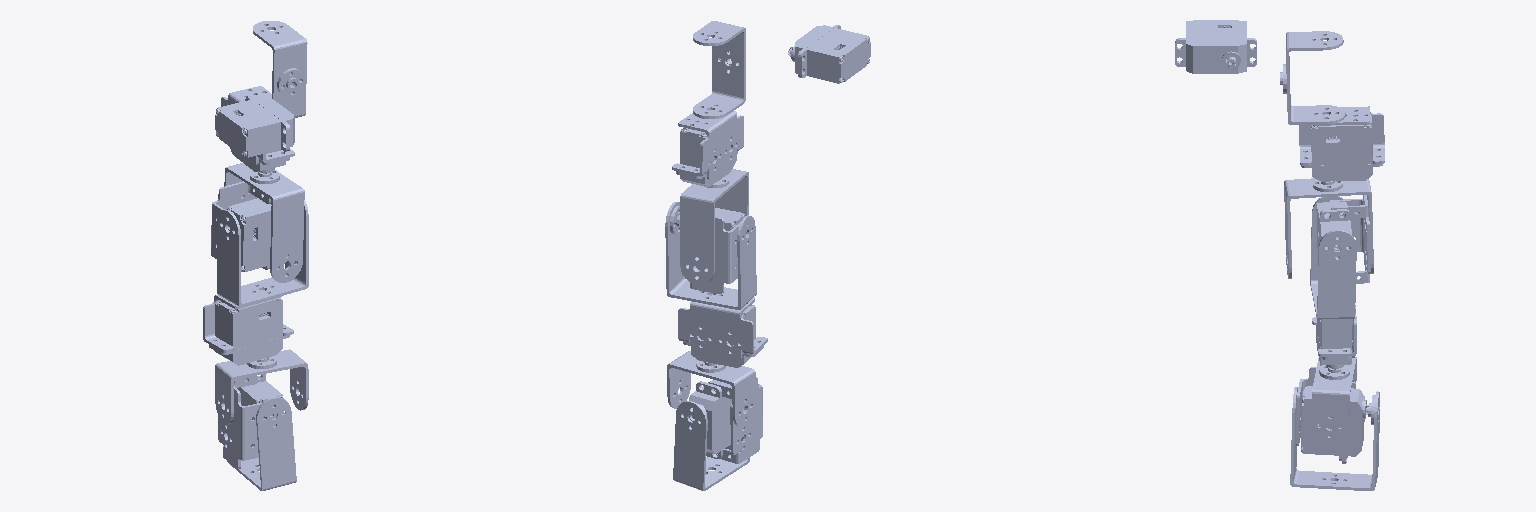
robot.urdf — arm_assembly_4:
<?xml version="1.0" encoding="utf-8"?>
<!-- This URDF was automatically created by SolidWorks to URDF Exporter! Originally created by [author] ([email redacted]) 
     Commit Version: 1.6.0-1-g15f4949  Build Version: 1.6.7594.29634
     For more information, please see http://wiki.ros.org/sw_urdf_exporter -->
<robot
  name="arm_assembly_4">
  <link
    name="base_link">
    <inertial>
      <origin
        xyz="0.018792 0.02001 -0.0099989"
        rpy="0 0 0" />
      <mass
        value="0.031905" />
      <inertia
        ixx="5.4828E-06"
        ixy="-8.0892E-08"
        ixz="-9.1152E-11"
        iyy="5.2647E-06"
        iyz="-2.6656E-10"
        izz="8.6771E-06" />
    </inertial>
    <visual>
      <origin
        xyz="0 0 0"
        rpy="0 0 0" />
      <geometry>
        <mesh
          filename="package://arm_assembly_4/meshes/base_link.STL" />
      </geometry>
      <material
        name="">
        <color
          rgba="0.79216 0.81961 0.93333 1" />
      </material>
    </visual>
    <collision>
      <origin
        xyz="0 0 0"
        rpy="0 0 0" />
      <geometry>
        <mesh
          filename="package://arm_assembly_4/meshes/base_link.STL" />
      </geometry>
    </collision>
  </link>
  <link
    name="link1">
    <inertial>
      <origin
        xyz="0.0085665 -0.0062685 -0.027002"
        rpy="0 0 0" />
      <mass
        value="0.04101" />
      <inertia
        ixx="9.4769E-06"
        ixy="3.6442E-07"
        ixz="5.2471E-07"
        iyy="9.1716E-06"
        iyz="-5.3417E-07"
        izz="1.2798E-05" />
    </inertial>
    <visual>
      <origin
        xyz="0 0 0"
        rpy="0 0 0" />
      <geometry>
        <mesh
          filename="package://arm_assembly_4/meshes/link1.STL" />
      </geometry>
      <material
        name="">
        <color
          rgba="0.79216 0.81961 0.93333 1" />
      </material>
    </visual>
    <collision>
      <origin
        xyz="0 0 0"
        rpy="0 0 0" />
      <geometry>
        <mesh
          filename="package://arm_assembly_4/meshes/link1.STL" />
      </geometry>
    </collision>
  </link>
  <joint
    name="joint1"
    type="revolute">
    <origin
      xyz="0.043 0.029901 -0.0098444"
      rpy="3.1416 1.5708 0" />
    <parent
      link="base_link" />
    <child
      link="link1" />
    <axis
      xyz="0 0 1" />
    <limit
      lower="-0.785398"
      upper="3.316126"
      effort="0"
      velocity="0" />
  </joint>
  <link
    name="link2">
    <inertial>
      <origin
        xyz="-0.0035048 0.043261 0.034631"
        rpy="0 0 0" />
      <mass
        value="0.044197" />
      <inertia
        ixx="3.3375E-05"
        ixy="1.0809E-06"
        ixz="5.9712E-07"
        iyy="1.2427E-05"
        iyz="-7.3006E-06"
        izz="2.4892E-05" />
    </inertial>
    <visual>
      <origin
        xyz="0 0 0"
        rpy="0 0 0" />
      <geometry>
        <mesh
          filename="package://arm_assembly_4/meshes/link2.STL" />
      </geometry>
      <material
        name="">
        <color
          rgba="0.79216 0.81961 0.93333 1" />
      </material>
    </visual>
    <collision>
      <origin
        xyz="0 0 0"
        rpy="0 0 0" />
      <geometry>
        <mesh
          filename="package://arm_assembly_4/meshes/link2.STL" />
      </geometry>
    </collision>
  </link>
  <joint
    name="joint2"
    type="revolute">
    <origin
      xyz="-0.0011908 -0.032981 -0.027656"
      rpy="1.5947 1.5708 0" />
    <parent
      link="link1" />
    <child
      link="link2" />
    <axis
      xyz="0 0 -1" />
    <limit
      lower="-3.926991"
      upper="0.785398"
      effort="0"
      velocity="0" />
  </joint>
  <link
    name="link3">
    <inertial>
      <origin
        xyz="-0.0017367 0.0047135 -0.040737"
        rpy="0 0 0" />
      <mass
        value="0.046897" />
      <inertia
        ixx="2.0928E-05"
        ixy="8.5507E-07"
        ixz="-4.2766E-07"
        iyy="1.9258E-05"
        iyz="9.3477E-07"
        izz="1.3945E-05" />
    </inertial>
    <visual>
      <origin
        xyz="0 0 0"
        rpy="0 0 0" />
      <geometry>
        <mesh
          filename="package://arm_assembly_4/meshes/link3.STL" />
      </geometry>
      <material
        name="">
        <color
          rgba="0.79216 0.81961 0.93333 1" />
      </material>
    </visual>
    <collision>
      <origin
        xyz="0 0 0"
        rpy="0 0 0" />
      <geometry>
        <mesh
          filename="package://arm_assembly_4/meshes/link3.STL" />
      </geometry>
    </collision>
  </link>
  <joint
    name="joint3"
    type="revolute">
    <origin
      xyz="-0.0035722 0.076463 0.028599"
      rpy="1.5708 0 0.011985" />
    <parent
      link="link2" />
    <child
      link="link3" />
    <axis
      xyz="0 0 1" />
    <limit
      lower="-1.745329"
      upper="1.745329"
      effort="0"
      velocity="0" />
  </joint>
  <link
    name="link4">
    <inertial>
      <origin
        xyz="0.029609 0.066093 0.0026541"
        rpy="0 0 0" />
      <mass
        value="0.046897" />
      <inertia
        ixx="2.8311E-05"
        ixy="-4.4495E-06"
        ixz="-7.3788E-07"
        iyy="1.4257E-05"
        iyz="-4.0645E-07"
        izz="3.833E-05" />
    </inertial>
    <visual>
      <origin
        xyz="0 0 0"
        rpy="0 0 0" />
      <geometry>
        <mesh
          filename="package://arm_assembly_4/meshes/link4.STL" />
      </geometry>
      <material
        name="">
        <color
          rgba="0.79216 0.81961 0.93333 1" />
      </material>
    </visual>
    <collision>
      <origin
        xyz="0 0 0"
        rpy="0 0 0" />
      <geometry>
        <mesh
          filename="package://arm_assembly_4/meshes/link4.STL" />
      </geometry>
    </collision>
  </link>
  <joint
    name="joint4"
    type="revolute">
    <origin
      xyz="0.023642 0.0053122 -0.035099"
      rpy="-1.5708 0 3.1416" />
    <parent
      link="link3" />
    <child
      link="link4" />
    <axis
      xyz="0.99659 0 0.082463" />
    <limit
      lower="-2.094395"
      upper="2.356194"
      effort="0"
      velocity="0" />
  </joint>
  <link
    name="link5">
    <inertial>
      <origin
        xyz="-0.0052386 -0.00098387 -0.035909"
        rpy="0 0 0" />
      <mass
        value="0.044197" />
      <inertia
        ixx="1.665E-05"
        ixy="-6.745E-07"
        ixz="-9.5329E-07"
        iyy="1.692E-05"
        iyz="-2.5852E-07"
        izz="1.1763E-05" />
    </inertial>
    <visual>
      <origin
        xyz="0 0 0"
        rpy="0 0 0" />
      <geometry>
        <mesh
          filename="package://arm_assembly_4/meshes/link5.STL" />
      </geometry>
      <material
        name="">
        <color
          rgba="0.79216 0.81961 0.93333 1" />
      </material>
    </visual>
    <collision>
      <origin
        xyz="0 0 0"
        rpy="0 0 0" />
      <geometry>
        <mesh
          filename="package://arm_assembly_4/meshes/link5.STL" />
      </geometry>
    </collision>
  </link>
  <joint
    name="joint5"
    type="revolute">
    <origin
      xyz="0.021837 0.101 0.0040812"
      rpy="-1.6163 -0.00019654 -3.1378" />
    <parent
      link="link4" />
    <child
      link="link5" />
    <axis
      xyz="0 0 1" />
    <limit
      lower="-1.570796"
      upper="2.356194"
      effort="0"
      velocity="0" />
  </joint>
  <link
    name="link6">
    <inertial>
      <origin
        xyz="0.026757 0.0088553 0.020504"
        rpy="0 0 0" />
      <mass
        value="0.009246" />
      <inertia
        ixx="6.1978E-06"
        ixy="-1.0915E-06"
        ixz="-4.9376E-07"
        iyy="9.1347E-06"
        iyz="-1.6341E-07"
        izz="4.5813E-06" />
    </inertial>
    <visual>
      <origin
        xyz="0 0 0"
        rpy="0 0 0" />
      <geometry>
        <mesh
          filename="package://arm_assembly_4/meshes/link6.STL" />
      </geometry>
      <material
        name="">
        <color
          rgba="0.79216 0.81961 0.93333 1" />
      </material>
    </visual>
    <collision>
      <origin
        xyz="0 0 0"
        rpy="0 0 0" />
      <geometry>
        <mesh
          filename="package://arm_assembly_4/meshes/link6.STL" />
      </geometry>
    </collision>
  </link>
  <joint
    name="joint6"
    type="revolute">
    <origin
      xyz="-0.0012994 0.024197 -0.030099"
      rpy="-1.5708 1.3216 3.0568" />
    <parent
      link="link5" />
    <child
      link="link6" />
    <axis
      xyz="0 0 1" />
    <limit
      lower="-1.570796"
      upper="1.570796"
      effort="0"
      velocity="0" />
  </joint>
</robot>

--- Facts derived from the render (not from the file) ---
Views: 3 orthographic renders of the robot side by side, from view 1: azimuth 30°, elevation 25°; view 2: azimuth 150°, elevation 25°; view 3: azimuth 270°, elevation 25°.
Robot: arm_assembly_4 — 7 links, 6 joints (6 revolute); root link base_link; default pose: every joint at zero.
Links seen in each view (by area): view 1: link4, link3, link5, link2, base_link, link6; view 2: link4, link2, link5, link3, base_link, link6; view 3: link2, link4, link5, link3, base_link, link6.
Boxes of the visible links, <box> form: link4: <box>203,200,308,365</box>; link3: <box>211,163,304,282</box>; link5: <box>215,349,308,468</box>; link2: <box>221,21,307,173</box>; base_link: <box>215,96,294,157</box>; link6: <box>227,397,296,490</box>; link4: <box>665,202,767,367</box>; link2: <box>672,21,745,186</box>; link5: <box>667,351,762,463</box>; link3: <box>680,169,748,293</box>; base_link: <box>788,25,870,83</box>; link6: <box>673,401,749,490</box>; link2: <box>1280,31,1384,181</box>; link4: <box>1310,196,1356,369</box>; link5: <box>1296,357,1368,463</box>; link3: <box>1284,178,1373,283</box>; base_link: <box>1175,20,1256,73</box>; link6: <box>1290,387,1379,490</box>.
Size in the robot's own frame: 0.0983 by 0.1378 by 0.3247 metres.
6 mesh visuals loaded from 7 distinct referenced files (6 binary STL); not drawn: 1 (reference not matched to a file when rendering).